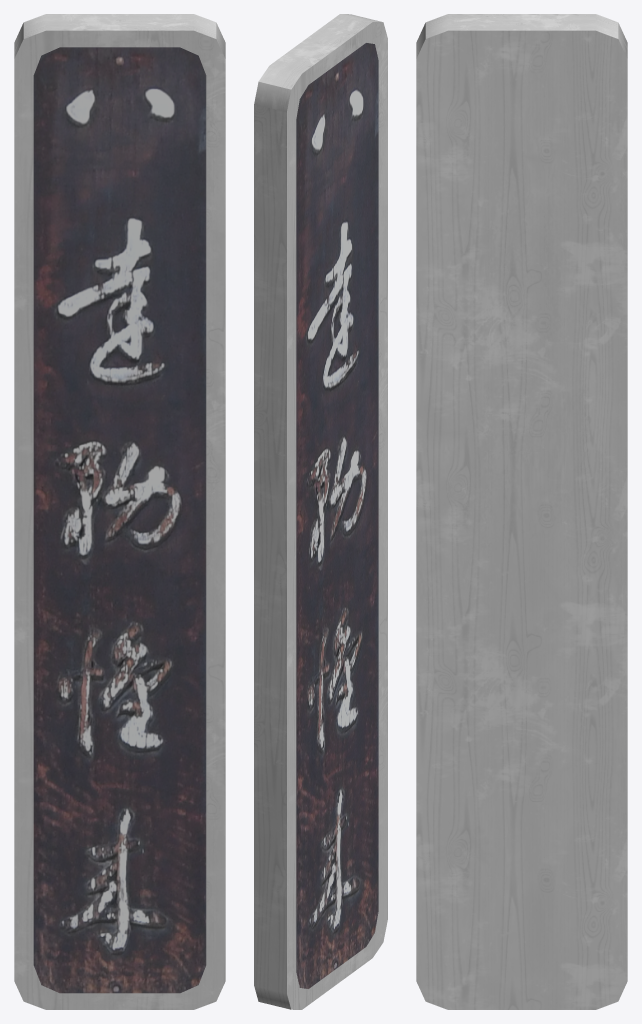
File: SM_R_Yuyotaek7.fbx
3 renders of one model, left to right at view 1: azimuth 90°, elevation 25°; view 2: azimuth 150°, elevation 25°; view 3: azimuth 270°, elevation 25°, orthographic. The views are drawn at different scales.
Parts seen in each view (by area): view 1: SM_R_Yuyotaek7; view 2: SM_R_Yuyotaek7; view 3: SM_R_Yuyotaek7.
Boxes of the visible parts, x1,y1,x2,y2 form: SM_R_Yuyotaek7: [14, 14, 225, 1009]; SM_R_Yuyotaek7: [254, 14, 387, 1009]; SM_R_Yuyotaek7: [416, 14, 627, 1009].
Bounding box in the file's own units: 3.97 × 21.22 × 108.
Materials: 1 (1 with a texture image).
